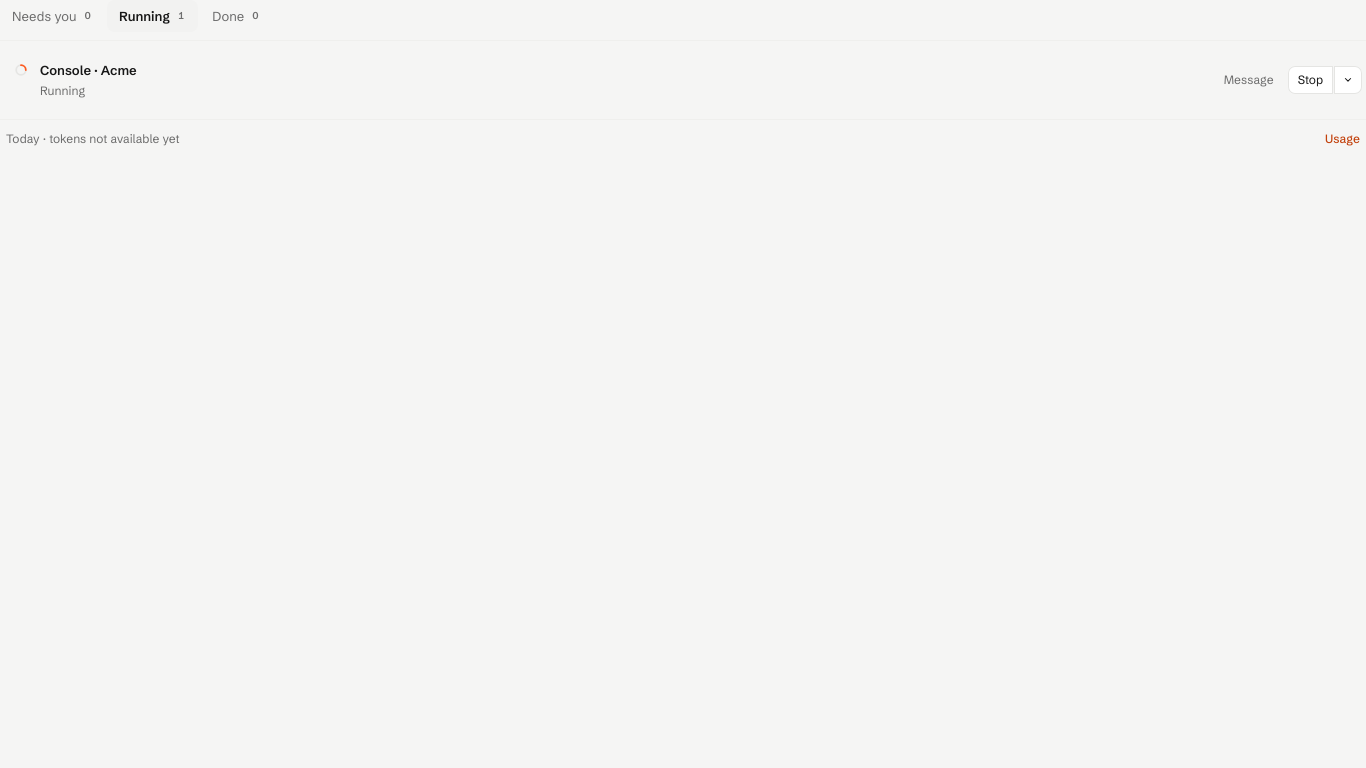
Scenario: console message in the Activity center › while the capabilities are pending the box is neutral: disabled, with no "not supported" note
Step 1. Click the button "Message" → click(1249, 80), box [1214,66,1284,94]
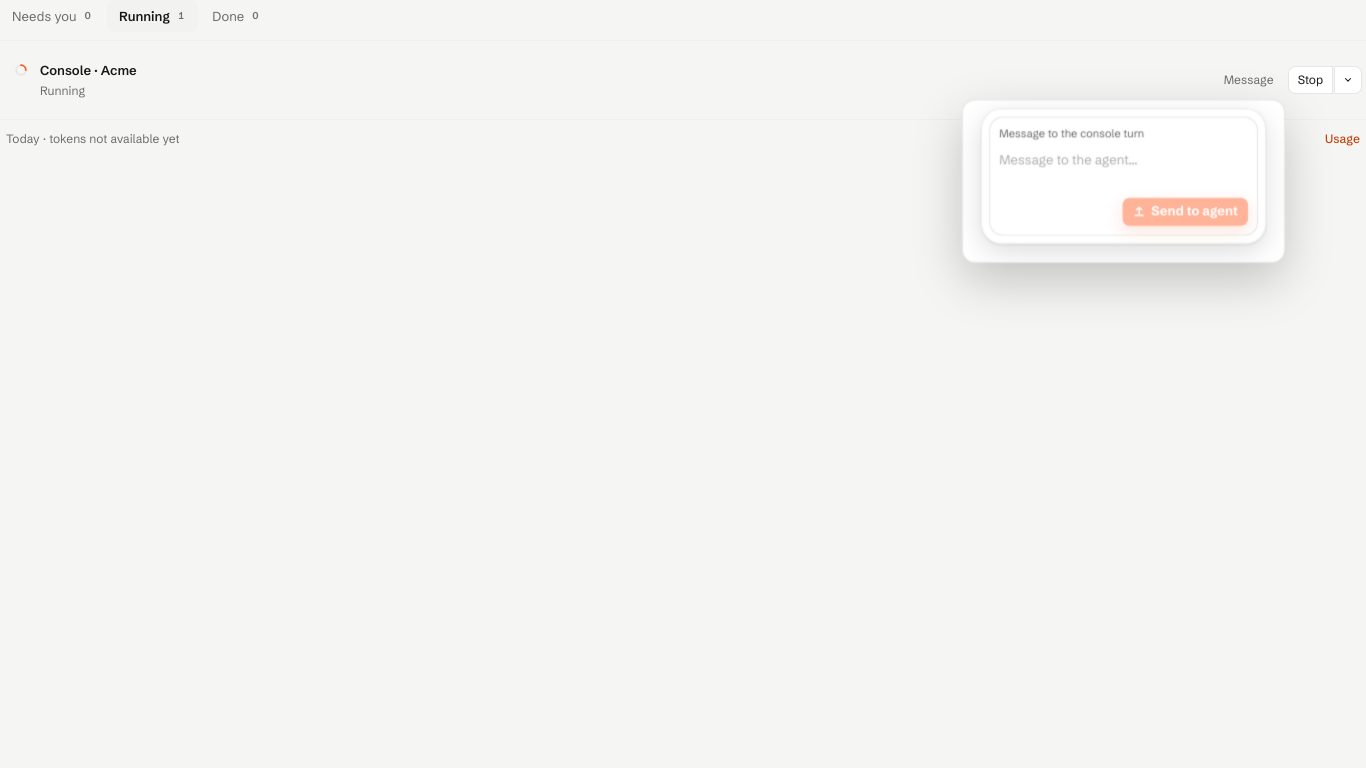
Result: the text box is disabled at [1000,150,1248,189]
